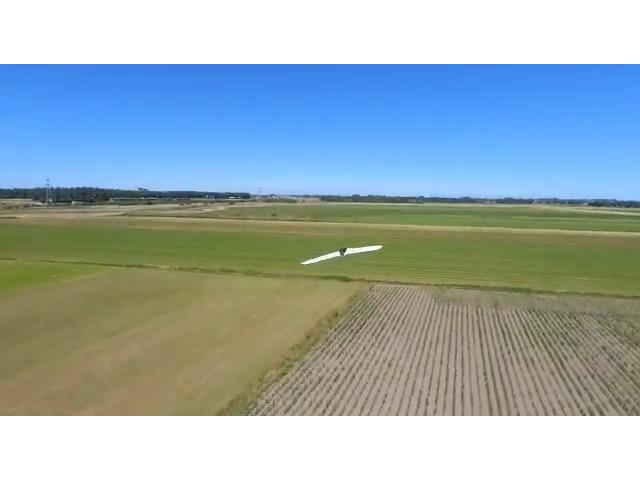Anti-Drone: (288, 228, 392, 274)
